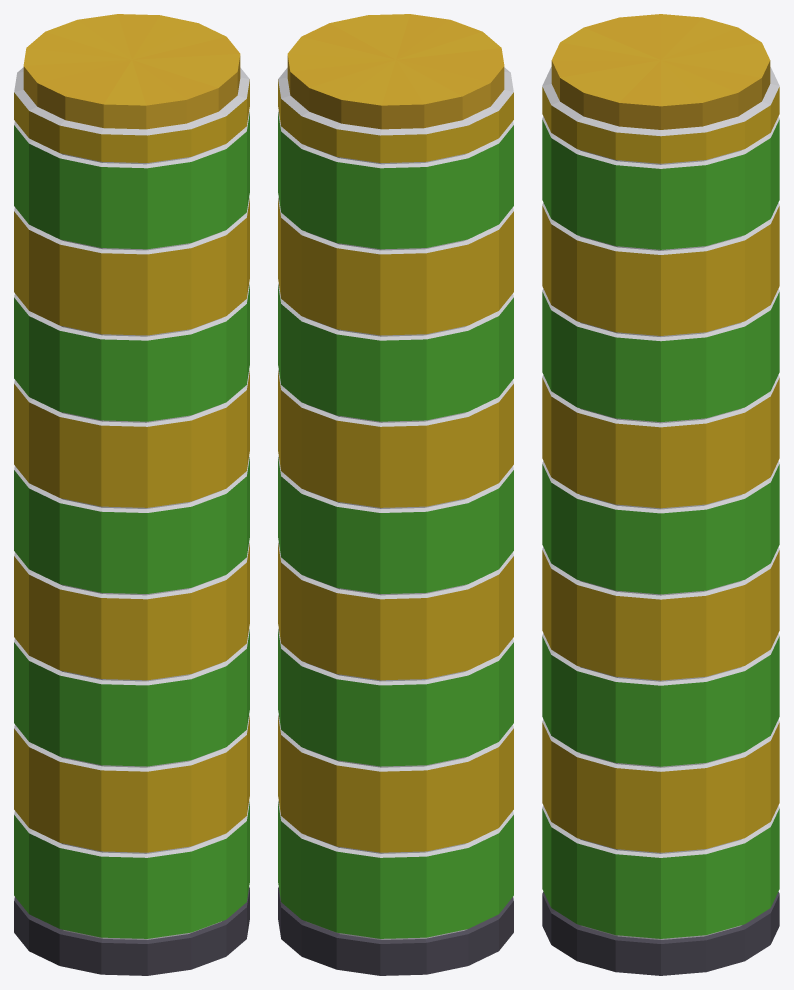
File: Prop_ObbyTower.fbx
3 renders of one model, left to right at view 1: azimuth 30°, elevation 25°; view 2: azimuth 150°, elevation 25°; view 3: azimuth 270°, elevation 25°, orthographic.
Visible parts, largest first — view 1: Body; view 2: Body; view 3: Body.
Part boxes in pixels (x1=…): Body: x1=14, y1=14, x2=249, y2=975; Body: x1=278, y1=14, x2=513, y2=975; Body: x1=542, y1=14, x2=779, y2=975.
Bounding box in the file's own units: 10 × 40.2 × 10.
